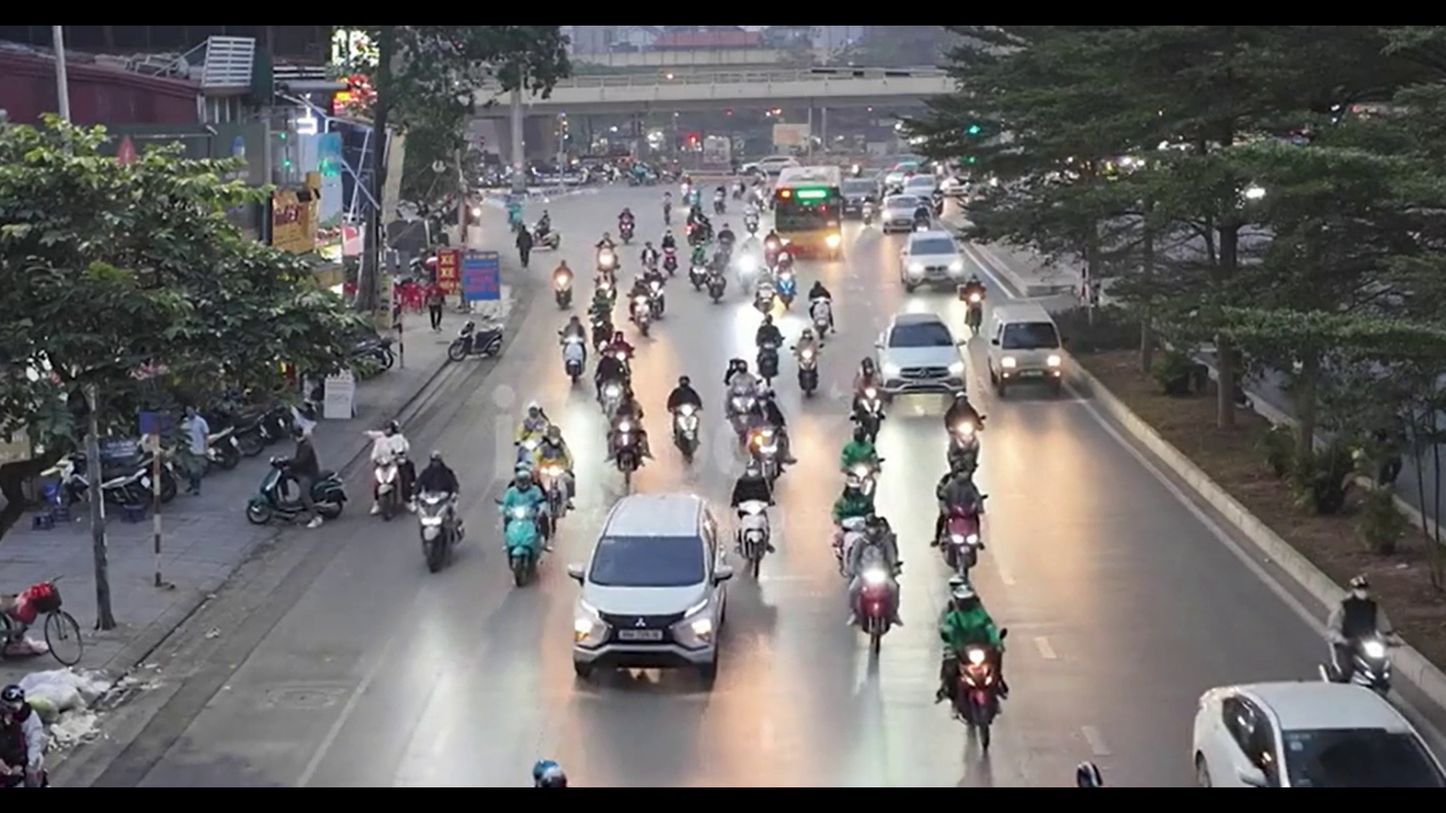bus: (769, 177, 846, 262)
car: (570, 489, 737, 680), (1190, 677, 1443, 787), (875, 315, 962, 397), (985, 309, 1064, 397), (901, 232, 966, 291)
motorcycle: (245, 442, 345, 529), (945, 634, 1008, 755), (0, 578, 84, 667), (848, 557, 901, 652), (732, 489, 778, 581), (416, 498, 465, 574), (933, 506, 983, 580), (501, 510, 544, 588), (935, 529, 982, 581)
